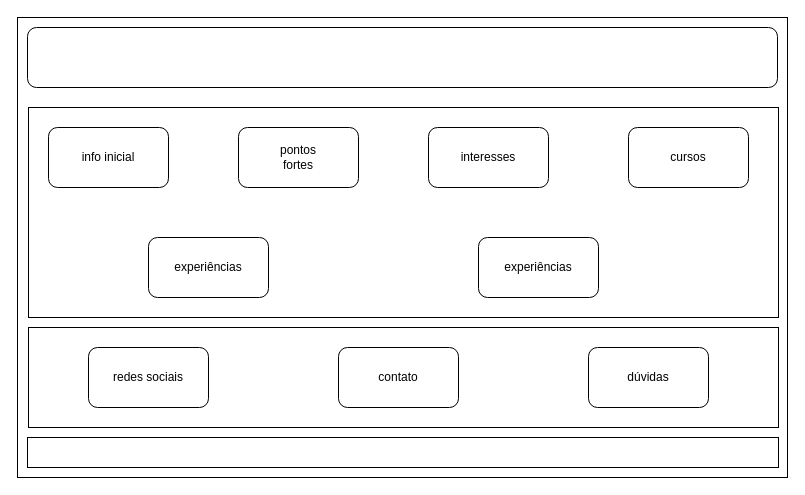
This 805x495 diagram has some shape labels left out. Each missing label, with the centre of its shape:
"footer" belongs at point 402,452.
"Sobre mim" belongs at point 402,57.
